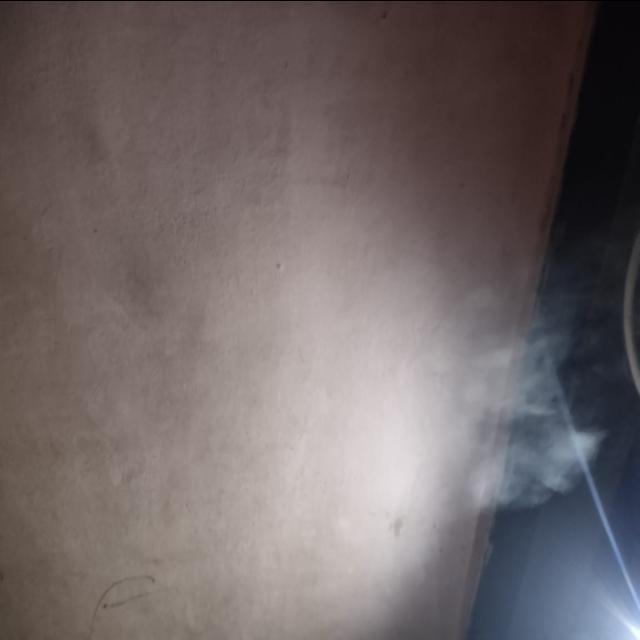smoke: (423, 321, 590, 529)
